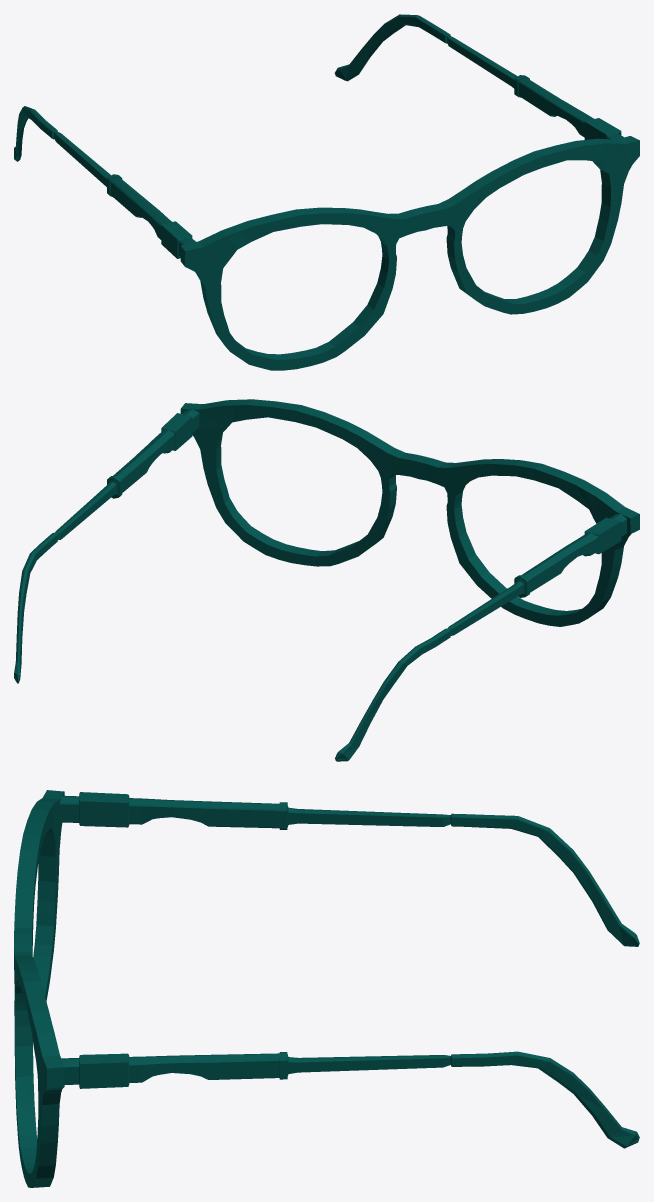
The model's file is glass_sea.obj.
3 renders of one model, top to bottom at view 1: azimuth 30°, elevation 25°; view 2: azimuth 150°, elevation 25°; view 3: azimuth 270°, elevation 25°, orthographic. The views are drawn at different scales.
Visible parts, largest first — view 1: group6_group5_group3_group1_group2_pCube1_polySurface6_grou.002; view 2: group6_group5_group3_group1_group2_pCube1_polySurface6_grou.002; view 3: group6_group5_group3_group1_group2_pCube1_polySurface6_grou.002.
Part boxes in pixels (x1,y1,x2,y2): group6_group5_group3_group1_group2_pCube1_polySurface6_grou.002: [14, 14, 639, 370]; group6_group5_group3_group1_group2_pCube1_polySurface6_grou.002: [14, 399, 639, 761]; group6_group5_group3_group1_group2_pCube1_polySurface6_grou.002: [14, 790, 639, 1187].
Size of the model in its own units: 0.068 by 0.0219 by 0.0645.
